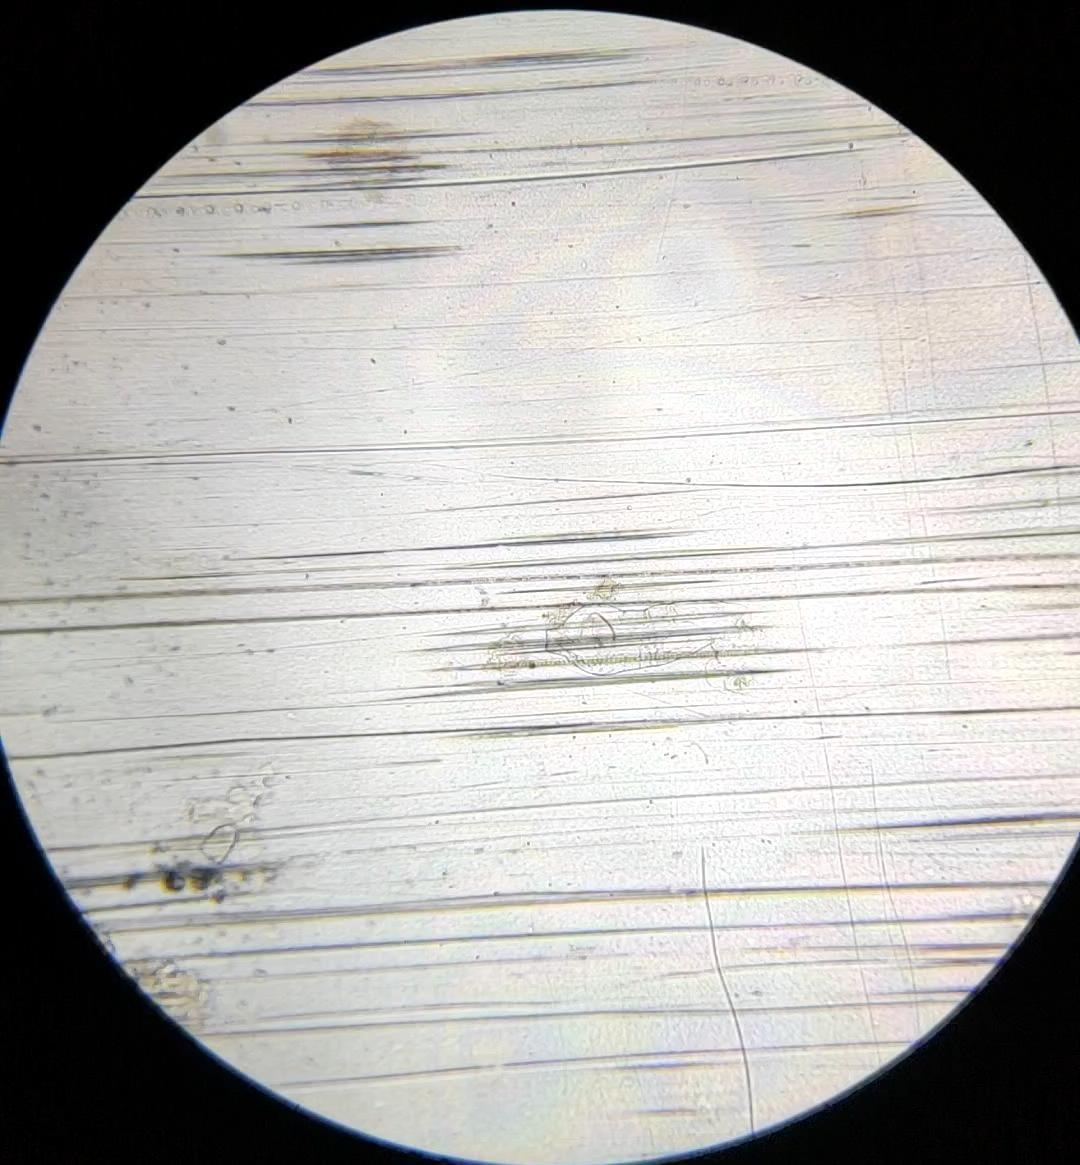Do: (544, 591, 772, 675)
